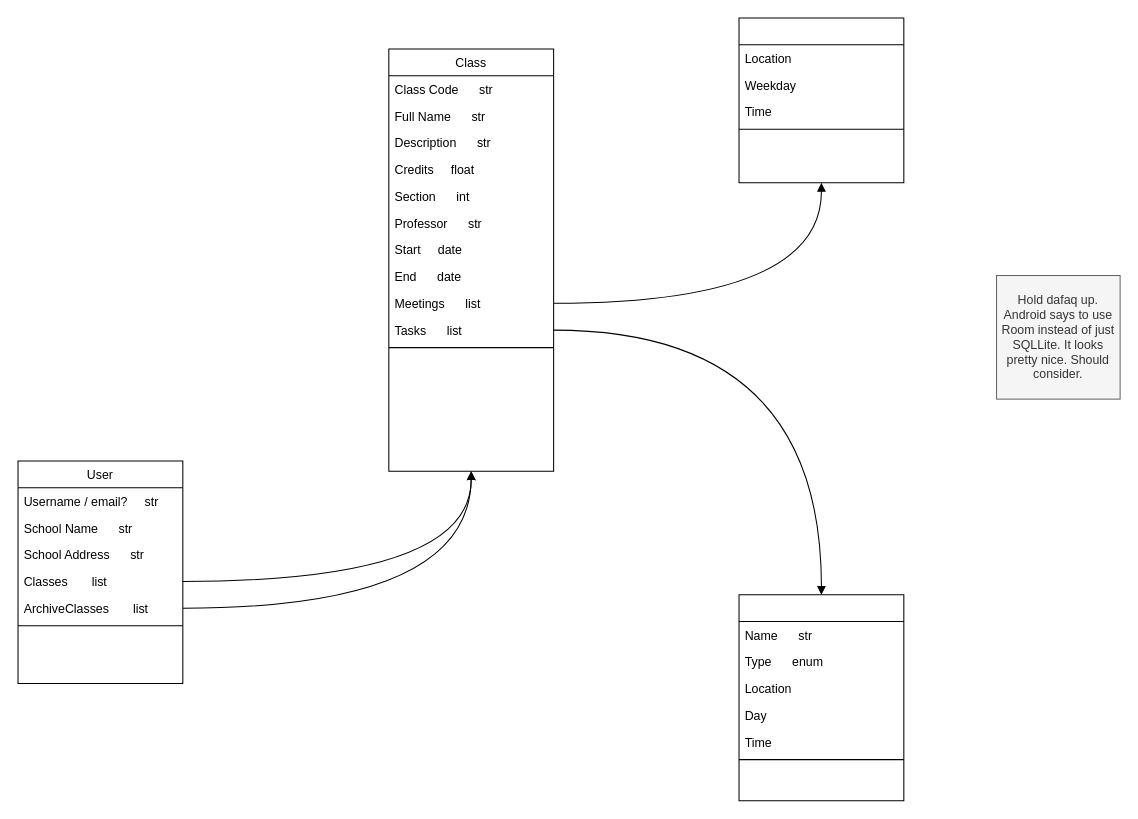
The diagram is 1138 pixels wide and 819 high, and some of its shapes have lost their labels. The box of each missing label's shape, as (x1, y1, x2, y2) in pixels:
Meeting: (738, 17, 904, 183)
Tasks: (738, 594, 904, 801)
